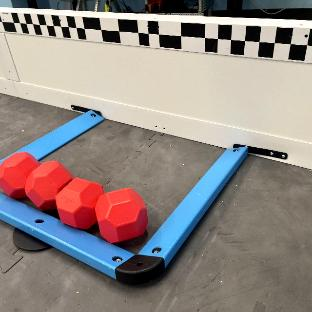V5_RED: (0, 154, 148, 243)
